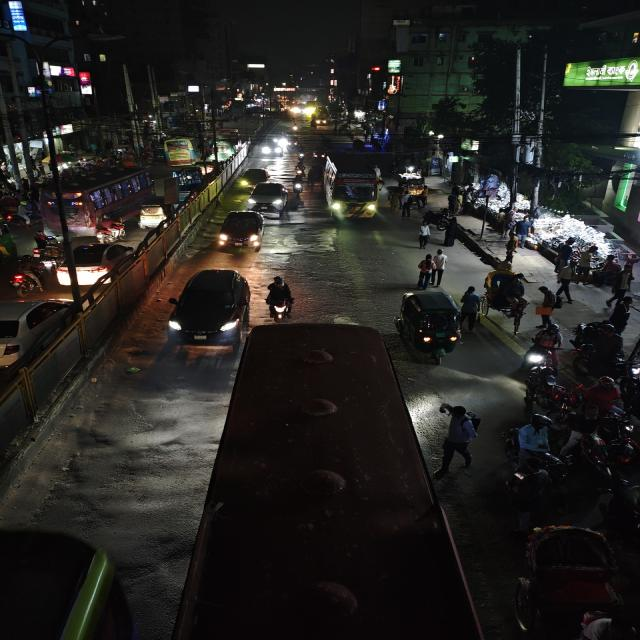bus: (185, 322, 476, 640), (35, 166, 156, 227), (320, 150, 382, 224), (164, 138, 199, 167)
car: (166, 266, 252, 358), (0, 295, 73, 377), (53, 240, 139, 288), (216, 209, 265, 253), (245, 180, 291, 212), (236, 166, 274, 188)
cng: (395, 287, 464, 363)
motorcycle: (524, 366, 578, 424), (576, 378, 626, 422), (263, 274, 296, 318), (8, 256, 46, 294), (518, 338, 556, 372), (30, 226, 64, 256), (91, 216, 129, 242), (293, 160, 309, 180)
pedestrian: (436, 399, 483, 473), (501, 276, 530, 331), (459, 287, 482, 332), (536, 283, 558, 327), (554, 260, 576, 304), (415, 254, 436, 288), (430, 251, 450, 285), (415, 222, 434, 250)
rickshaw: (508, 520, 634, 640), (0, 191, 29, 227)
truck: (136, 195, 183, 229)
